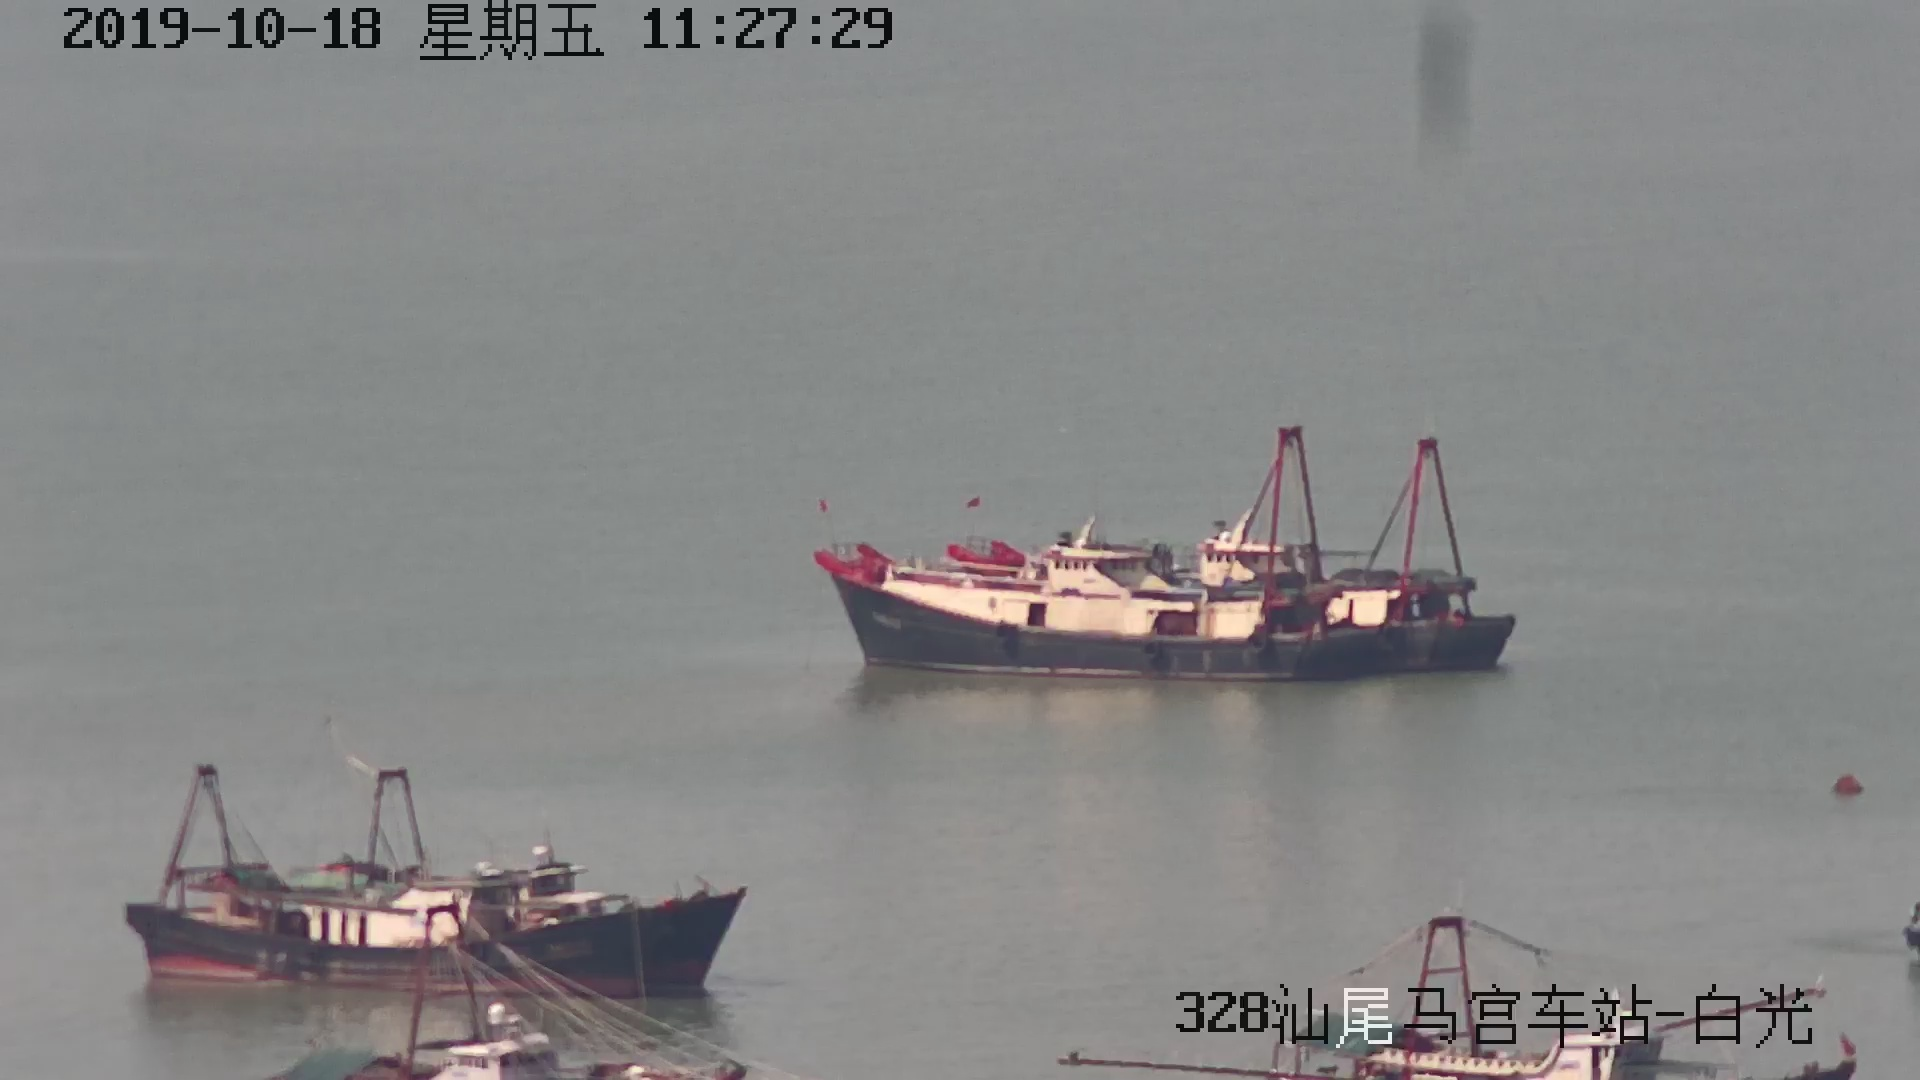ship: (812, 397, 1516, 665), (119, 723, 746, 1000)
